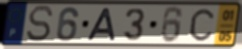3: (121, 7, 147, 42)
6: (55, 5, 80, 43), (160, 5, 184, 44)
A: (85, 7, 118, 43)
C: (188, 7, 216, 43)
S: (25, 5, 55, 43)
